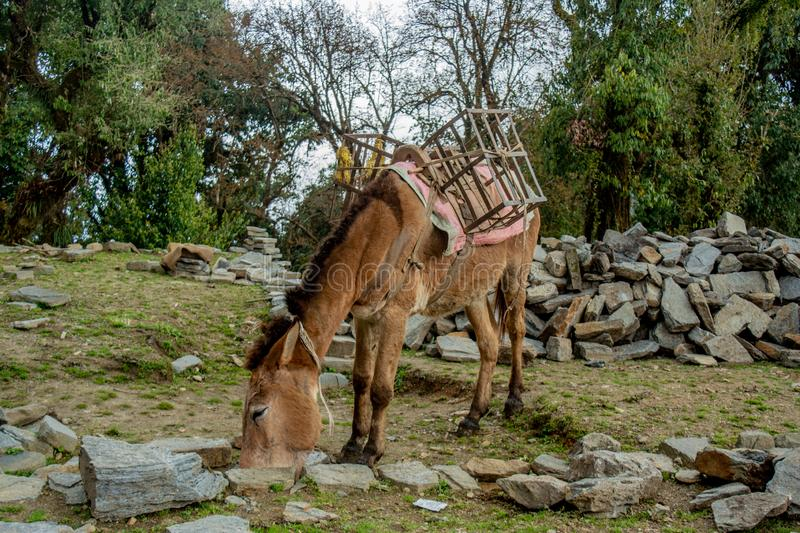equine: (204, 98, 571, 499)
